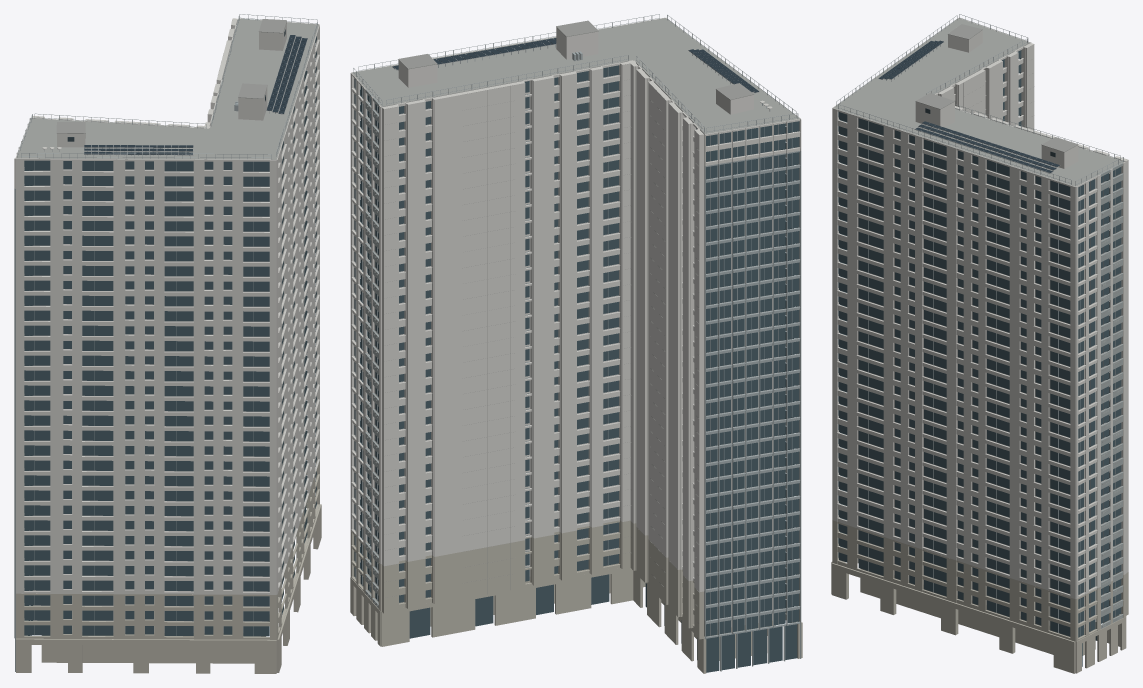
Rendered from bespoke-maple-xi-205.glb.
3 views of the same model, side by side, from view 1: azimuth 30°, elevation 25°; view 2: azimuth 150°, elevation 25°; view 3: azimuth 270°, elevation 25° (orthographic). The views are drawn at different scales.
Visible parts, largest first — view 1: Maple205_inset_structural_body, Maple205_NE_small0_glass, Maple205_ground_recessed_lobby, Maple205_individual_L_roof_slab, Maple205_NE_small0_sash, Maple205_NE_long_PV_cell, Maple205_NE_gray_spandrel_seams, Maple205_NE_long_PV_frame; view 2: Maple205_inset_structural_body, Maple205_NE_small0_glass, Maple205_NE_small0_sash, Maple205_ground_recessed_lobby, Maple205_individual_L_roof_slab, Maple205_NE_gray_spandrel_seams, Maple205_NE_small0_sill, Maple205_NE_long_PV_cell; view 3: Maple205_inset_structural_body, Maple205_NE_small0_glass, Maple205_ground_recessed_lobby, Maple205_individual_L_roof_slab, Maple205_NE_small0_sill, Maple205_NE_small0_sash, Maple205_NE_long_PV_cell, Maple205_NE_gray_spandrel_seams, Maple205_NE_long_PV_frame.
Boxes of the visible parts, x1,y1,x2,y2 form: Maple205_inset_structural_body: (14,18,319,632); Maple205_NE_small0_glass: (24,36,316,636); Maple205_ground_recessed_lobby: (16,458,321,673); Maple205_individual_L_roof_slab: (16,18,318,159); Maple205_NE_small0_sash: (14,14,317,671); Maple205_NE_long_PV_cell: (84,35,307,154); Maple205_NE_gray_spandrel_seams: (38,19,286,133); Maple205_NE_long_PV_frame: (84,35,307,155); Maple205_inset_structural_body: (350,17,801,629); Maple205_NE_small0_glass: (354,65,799,672); Maple205_NE_small0_sash: (353,14,801,671); Maple205_ground_recessed_lobby: (350,520,802,673); Maple205_individual_L_roof_slab: (352,18,799,134); Maple205_NE_gray_spandrel_seams: (366,20,754,623); Maple205_NE_small0_sill: (365,89,379,608); Maple205_NE_long_PV_cell: (392,38,758,92); Maple205_inset_structural_body: (832,18,1128,627); Maple205_NE_small0_glass: (838,50,1121,666); Maple205_ground_recessed_lobby: (831,516,1128,673); Maple205_individual_L_roof_slab: (833,18,1124,186); Maple205_NE_small0_sill: (1100,163,1123,628); Maple205_NE_small0_sash: (836,14,1123,636); Maple205_NE_long_PV_cell: (879,40,1059,172); Maple205_NE_gray_spandrel_seams: (915,24,1121,626); Maple205_NE_long_PV_frame: (878,42,1060,173).
Bounding box in the file's own units: 77.68 × 108 × 57.43.
